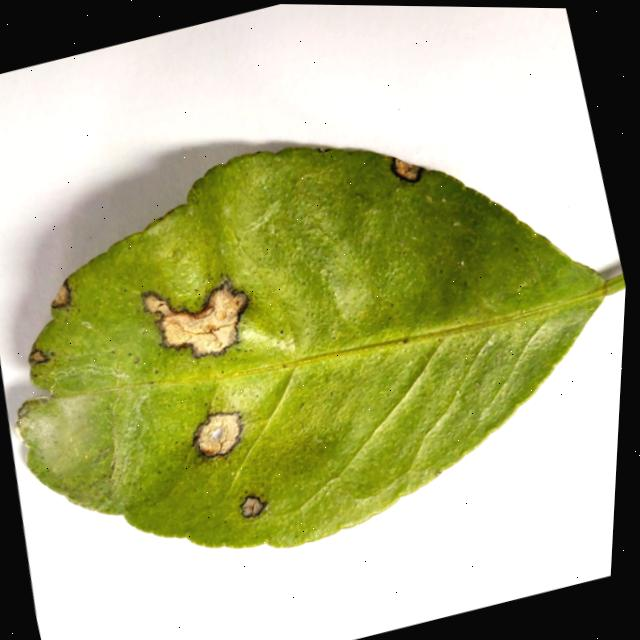antracnose: (16, 147, 625, 547), (144, 281, 247, 356), (195, 412, 241, 456), (393, 157, 422, 181), (240, 494, 266, 518), (51, 280, 70, 307), (29, 350, 48, 363)
